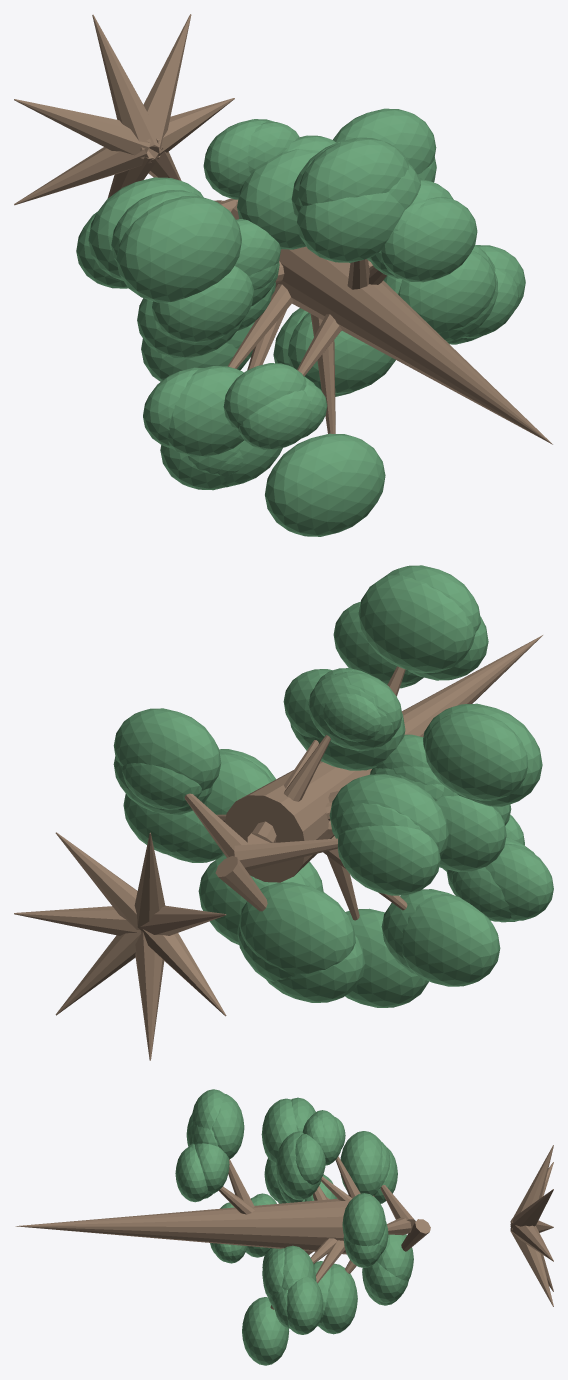
File: Akariz_Tree_Ancient_Canopy.glb
The picture shows the model from 3 angles, top to bottom: view 1: azimuth 30°, elevation 25°; view 2: azimuth 150°, elevation 25°; view 3: azimuth 270°, elevation 25°; orthographic projection. The views are drawn at different scales.
Visible parts, largest first — view 1: Akariz_Tree_Ancient_Canopy_trunk, Akariz_Tree_Ancient_Canopy_leaf16_3, Akariz_Tree_Ancient_Canopy_leaf11_2, Akariz_Tree_Ancient_Canopy_leaf9_1, Akariz_Tree_Ancient_Canopy_leaf7_3, Akariz_Tree_Ancient_Canopy_leaf7_1, Akariz_Tree_Ancient_Canopy_leaf12_0, Akariz_Tree_Ancient_Canopy_leaf6_1, Akariz_Tree_Ancient_Canopy_leaf4_3, Akariz_Tree_Ancient_Canopy_leaf13_2, Akariz_Tree_Ancient_Canopy_leaf8_3, Akariz_Tree_Ancient_Canopy_leaf14_1 (+31 smaller); view 2: Akariz_Tree_Ancient_Canopy_trunk, Akariz_Tree_Ancient_Canopy_leaf7_2, Akariz_Tree_Ancient_Canopy_leaf3_2, Akariz_Tree_Ancient_Canopy_leaf16_0, Akariz_Tree_Ancient_Canopy_leaf17_0, Akariz_Tree_Ancient_Canopy_leaf2_0, Akariz_Tree_Ancient_Canopy_leaf14_1, Akariz_Tree_Ancient_Canopy_leaf11_2, Akariz_Tree_Ancient_Canopy_leaf2_1, Akariz_Tree_Ancient_Canopy_leaf4_0, Akariz_Tree_Ancient_Canopy_leaf12_1, Akariz_Tree_Ancient_Canopy_leaf3_3 (+33 smaller); view 3: Akariz_Tree_Ancient_Canopy_trunk, Akariz_Tree_Ancient_Canopy_leaf11_2, Akariz_Tree_Ancient_Canopy_leaf2_1, Akariz_Tree_Ancient_Canopy_leaf14_1, Akariz_Tree_Ancient_Canopy_leaf8_1, Akariz_Tree_Ancient_Canopy_leaf0_1, Akariz_Tree_Ancient_Canopy_leaf13_2, Akariz_Tree_Ancient_Canopy_leaf16_3, Akariz_Tree_Ancient_Canopy_leaf7_2, Akariz_Tree_Ancient_Canopy_leaf9_1, Akariz_Tree_Ancient_Canopy_leaf3_1, Akariz_Tree_Ancient_Canopy_leaf9_2 (+25 smaller).
Boxes of the visible parts, x1,y1,x2,y2 form: Akariz_Tree_Ancient_Canopy_trunk: (231,204,552,444); Akariz_Tree_Ancient_Canopy_leaf16_3: (116,196,241,302); Akariz_Tree_Ancient_Canopy_leaf11_2: (265,433,385,536); Akariz_Tree_Ancient_Canopy_leaf9_1: (381,197,477,282); Akariz_Tree_Ancient_Canopy_leaf7_3: (297,192,404,262); Akariz_Tree_Ancient_Canopy_leaf7_1: (298,138,408,206); Akariz_Tree_Ancient_Canopy_leaf12_0: (168,366,243,457); Akariz_Tree_Ancient_Canopy_leaf6_1: (398,250,496,332); Akariz_Tree_Ancient_Canopy_leaf4_3: (152,266,253,342); Akariz_Tree_Ancient_Canopy_leaf13_2: (237,149,320,249); Akariz_Tree_Ancient_Canopy_leaf8_3: (288,312,395,394); Akariz_Tree_Ancient_Canopy_leaf14_1: (333,108,436,174); Akariz_Tree_Ancient_Canopy_trunk: (225,635,542,882); Akariz_Tree_Ancient_Canopy_leaf7_2: (358,575,475,673); Akariz_Tree_Ancient_Canopy_leaf3_2: (239,882,355,973); Akariz_Tree_Ancient_Canopy_leaf16_0: (424,711,527,800); Akariz_Tree_Ancient_Canopy_leaf17_0: (400,894,500,986); Akariz_Tree_Ancient_Canopy_leaf2_0: (337,825,440,895); Akariz_Tree_Ancient_Canopy_leaf14_1: (113,708,221,790); Akariz_Tree_Ancient_Canopy_leaf11_2: (345,908,428,1007); Akariz_Tree_Ancient_Canopy_leaf2_1: (329,774,448,856); Akariz_Tree_Ancient_Canopy_leaf4_0: (436,795,506,871); Akariz_Tree_Ancient_Canopy_leaf12_1: (485,843,553,920); Akariz_Tree_Ancient_Canopy_leaf3_3: (266,935,365,1002); Akariz_Tree_Ancient_Canopy_trunk: (15,1195,374,1254); Akariz_Tree_Ancient_Canopy_leaf11_2: (242,1297,289,1365); Akariz_Tree_Ancient_Canopy_leaf2_1: (340,1131,382,1195); Akariz_Tree_Ancient_Canopy_leaf14_1: (342,1193,385,1246); Akariz_Tree_Ancient_Canopy_leaf8_1: (319,1263,357,1334); Akariz_Tree_Ancient_Canopy_leaf0_1: (287,1277,323,1334); Akariz_Tree_Ancient_Canopy_leaf13_2: (276,1131,321,1200); Akariz_Tree_Ancient_Canopy_leaf16_3: (261,1098,297,1162); Akariz_Tree_Ancient_Canopy_leaf7_2: (212,1094,244,1159); Akariz_Tree_Ancient_Canopy_leaf9_1: (175,1147,207,1202); Akariz_Tree_Ancient_Canopy_leaf3_1: (362,1261,408,1303); Akariz_Tree_Ancient_Canopy_leaf9_2: (195,1143,229,1193).
Bounding box in the file's own units: 7.03 × 6.86 × 12.74.
